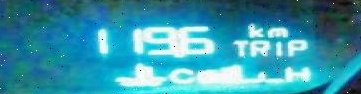-: (173, 51, 188, 58)
1: (89, 26, 113, 58), (124, 26, 143, 57)
6: (179, 24, 219, 53)
9: (143, 24, 178, 54)
X: (164, 66, 196, 86), (283, 63, 313, 83), (284, 37, 311, 57), (248, 38, 269, 57), (227, 38, 246, 58), (243, 21, 264, 37), (266, 25, 287, 37), (271, 38, 282, 58)
